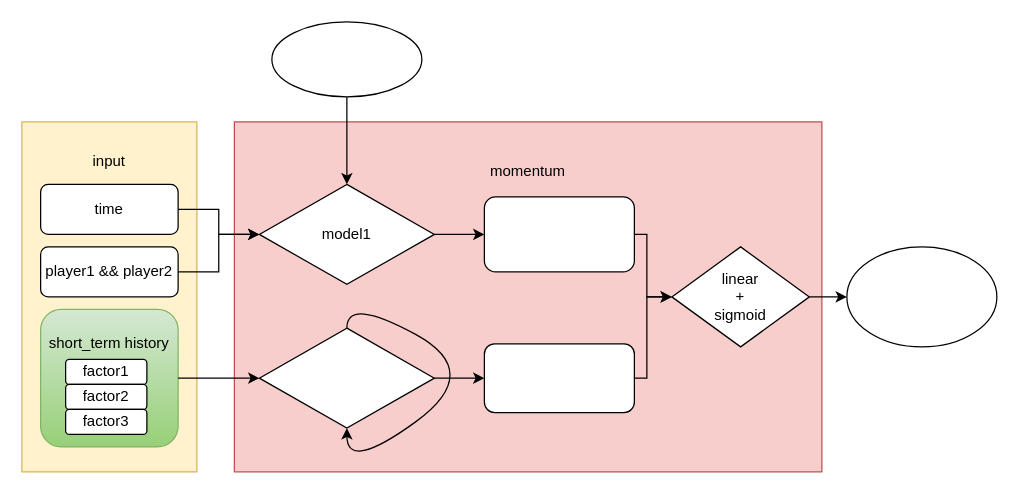
The diagram is 1019 pixels wide and 494 high, and some of its shapes have lost their labels. Each missing label, with the centre of its shape:
model2 GRU: the point at 346,377
non_temporal score: the point at 558,234
output: the point at 921,296
temporal score: the point at 558,377
wta_rankings: the point at 346,59
